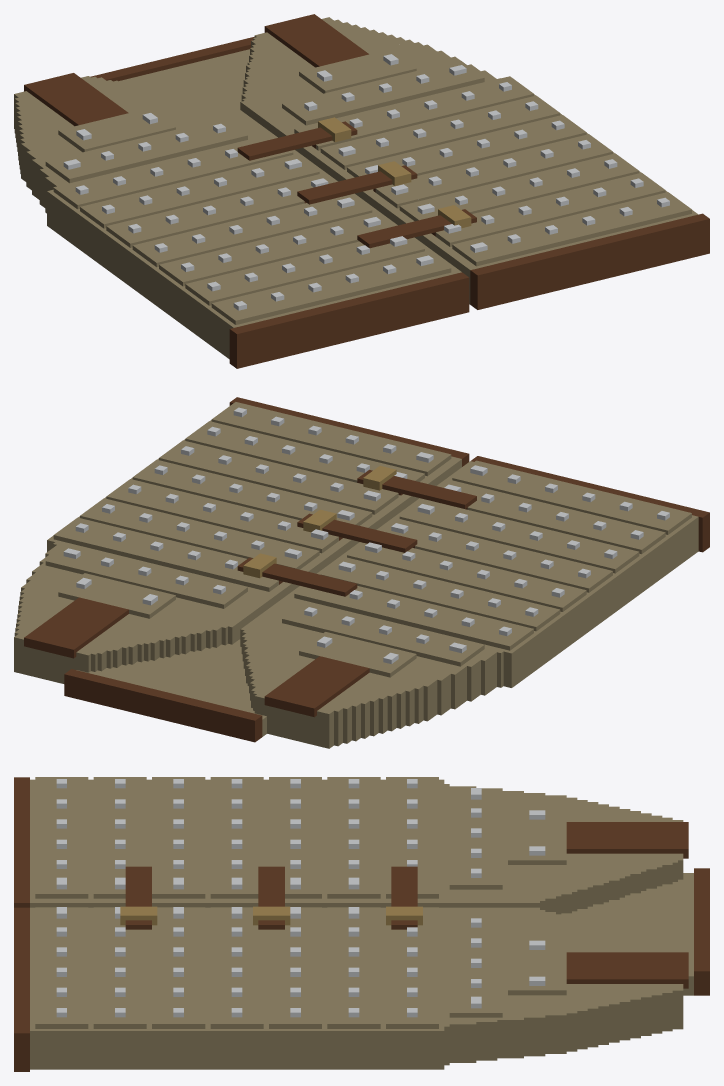
Rendered from lc_brigandine.glb.
The picture shows the model from 3 angles, top to bottom: view 1: azimuth 30°, elevation 25°; view 2: azimuth 150°, elevation 25°; view 3: azimuth 270°, elevation 25°; orthographic projection. The views are drawn at different scales.
Parts seen in each view (by area): view 1: lc_brigandine:compound; view 2: lc_brigandine:compound; view 3: lc_brigandine:compound.
Boxes of the visible parts, <box> form: lc_brigandine:compound: <box>14,14,709,368</box>; lc_brigandine:compound: <box>14,397,709,748</box>; lc_brigandine:compound: <box>14,777,709,1071</box>.
Bounding box in the file's own units: 0.456 × 0.044 × 0.524.
